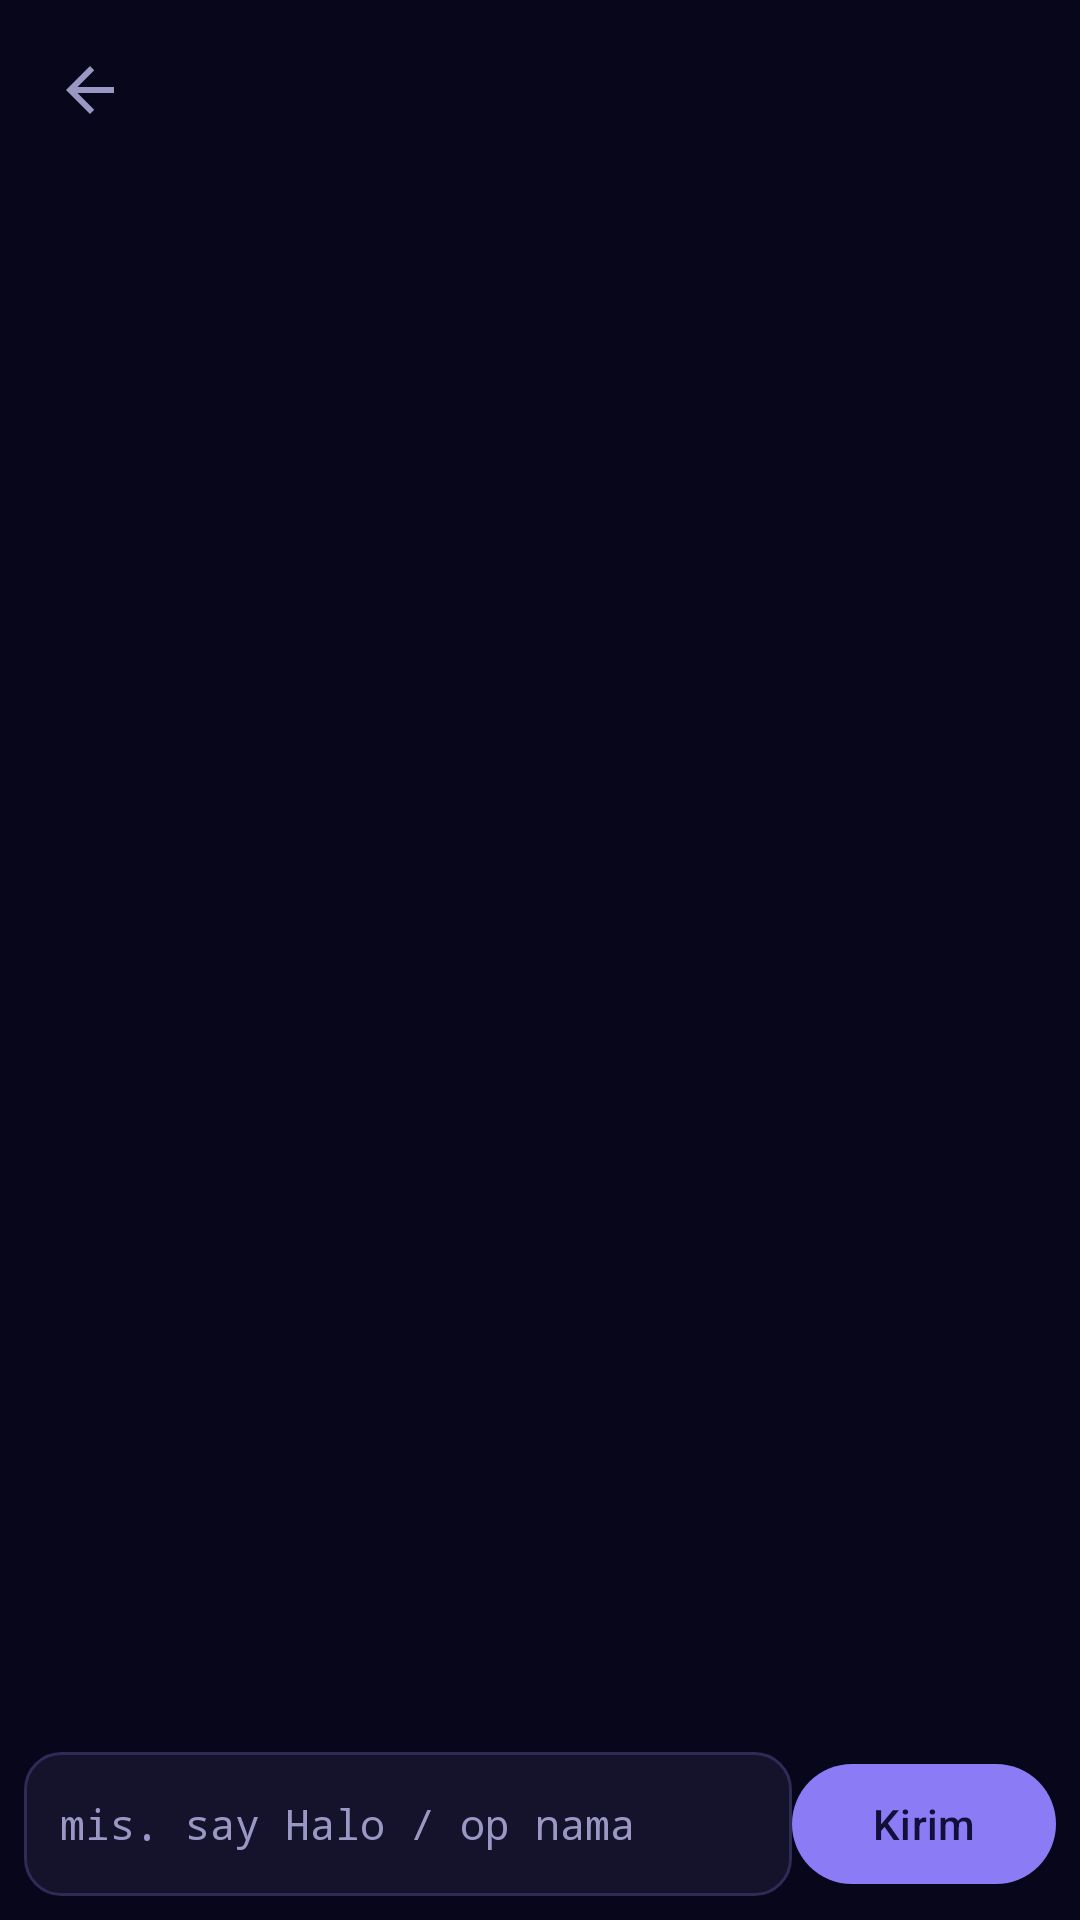

Named icons in this screenshot (1080 × 1920) and their bounding boxes, Rect(x1, y1, x2, y2):
Kembali: Rect(66, 66, 114, 114)
